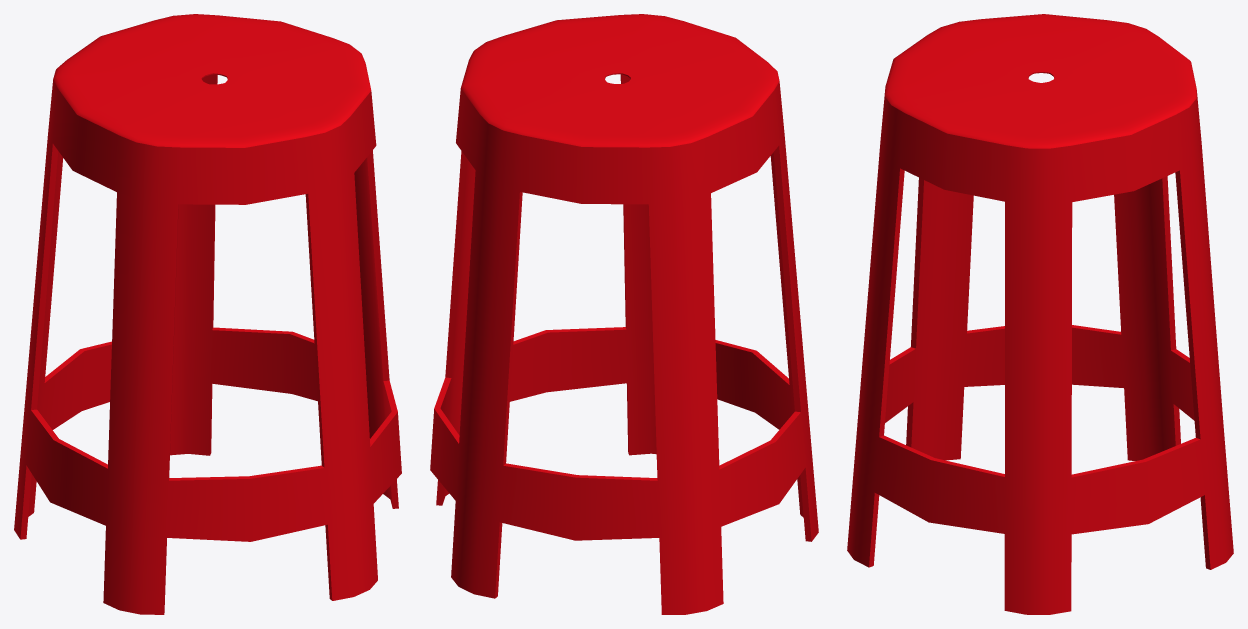
The model's file is KerusiMerah.fbx.
3 views of the same model, side by side, from view 1: azimuth 30°, elevation 25°; view 2: azimuth 150°, elevation 25°; view 3: azimuth 270°, elevation 25° (orthographic).
Parts seen in each view (by area): view 1: Chair; view 2: Chair; view 3: Chair.
Boxes of the visible parts, <box> form: Chair: <box>14,14,401,614</box>; Chair: <box>430,14,818,614</box>; Chair: <box>847,14,1233,614</box>.
Size of the model in its own units: 57.24 by 74 by 57.22.
